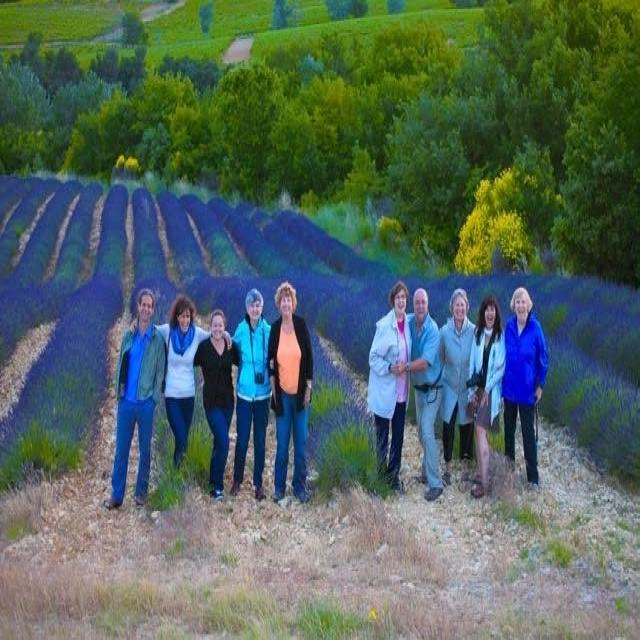body: (127, 292, 234, 471), (101, 286, 170, 514), (388, 283, 448, 502), (264, 278, 316, 506), (364, 276, 415, 494), (498, 284, 549, 492), (191, 307, 243, 502), (228, 288, 273, 502), (465, 294, 508, 499), (436, 286, 478, 480)
